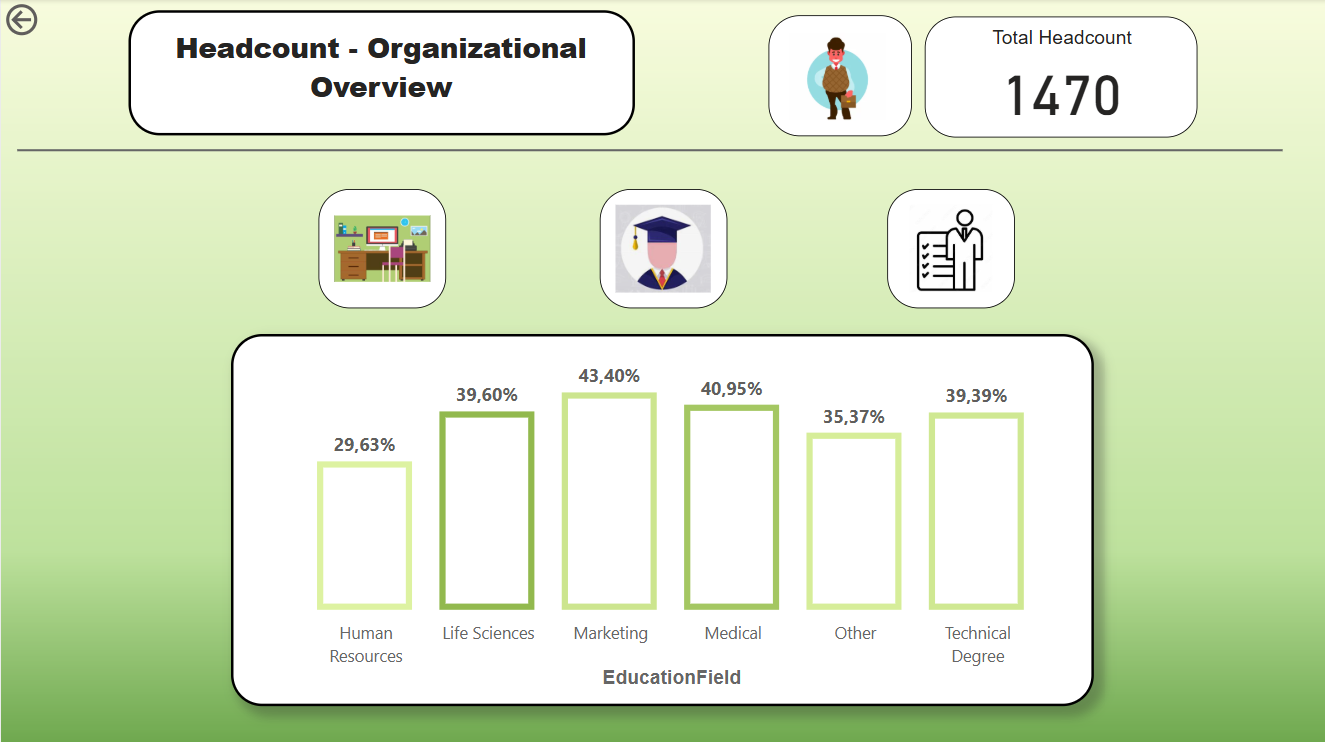

The dashboard page shown, as its layout file describes it:
{"tool":"powerbi","page":{"name":"HC - Drill through Y","canvas":[1280,720],"ordinal":1},"visuals":[{"type":"card","title":"Total Headcount","fields":{"Values":["Count(HR_Employee_Attrition__1.EmployeeNumber)"]},"box":[891.7,16.5,263.5,116.6],"z":0},{"type":"columnChart","fields":{"Y":["HR_Employee_Attrition__1.Measure 2"],"Category":["HR_Employee_Attrition__1.Department","HR_Employee_Attrition__1.EducationField","HR_Employee_Attrition__1.JobRole"]},"box":[222.4,323.6,832.4,359.2],"z":1000},{"type":"image","box":[740.7,15.1,138.6,116.6],"z":2000},{"type":"image","box":[577.7,183.9,123.5,115.3],"z":3000},{"type":"image","box":[306,183.9,123.5,115.3],"z":4000},{"type":"shape","box":[15.1,71.4,1221.3,149.6],"z":5000},{"type":"textbox","box":[123.5,11,488.5,120.8],"z":6000},{"type":"image","box":[854.9,183.9,123.5,115.3],"z":7000},{"type":"actionButton","box":[0,0,100,40],"z":8000}]}

Visuals, with their boxes in screenshot pixels (x1, y1, x2, y2), scaled from the page's 1280x720 canvas onto the 1325x742 screenshot:
"Total Headcount" card: BBox(923, 17, 1196, 137)
columnChart - HR_Employee_Attrition__1.Measure 2 x HR_Employee_Attrition__1.Department: BBox(230, 333, 1092, 704)
image: BBox(767, 16, 910, 136)
image: BBox(598, 190, 726, 308)
image: BBox(317, 190, 445, 308)
shape: BBox(16, 74, 1280, 228)
textbox: BBox(128, 11, 634, 136)
image: BBox(885, 190, 1013, 308)
actionButton: BBox(0, 0, 104, 41)
